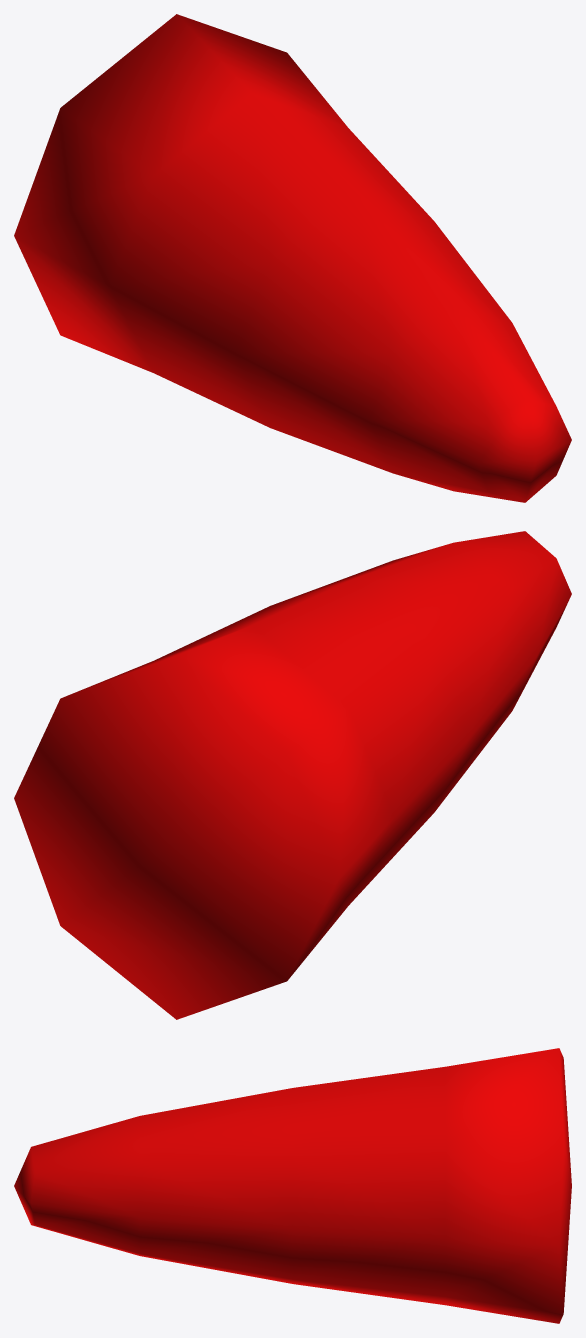
The model's file is long nose.fbx.
3 views of the same model, one above another, from view 1: azimuth 30°, elevation 25°; view 2: azimuth 150°, elevation 25°; view 3: azimuth 270°, elevation 25° (orthographic). The views are drawn at different scales.
Parts seen in each view (by area): view 1: pCone1; view 2: pCone1; view 3: pCone1.
Part boxes in pixels (x1,y1,x2,y2): pCone1: (14, 14, 571, 502); pCone1: (14, 531, 571, 1019); pCone1: (14, 1048, 571, 1323).
Bounding box in the file's own units: 82.43 × 88.17 × 162.
